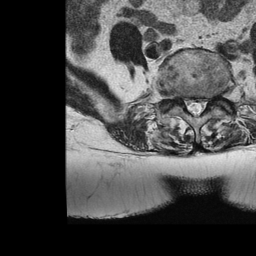CCS_normal: (191, 89, 199, 123)
LFS_severe_stenosis: (208, 86, 216, 109)
LLS_normal: (199, 92, 208, 117)
RFS_severe_stenosis: (176, 86, 184, 107)
RLS_normal: (184, 91, 191, 115)
